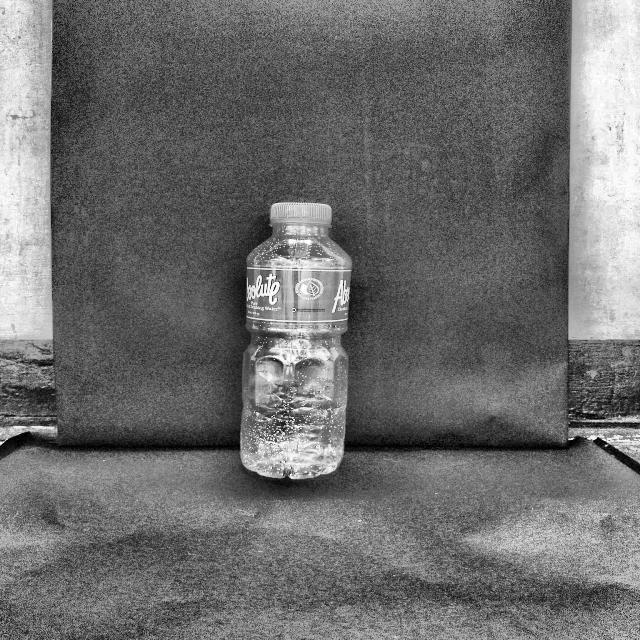Plastic-Bottle: (239, 200, 355, 481)
